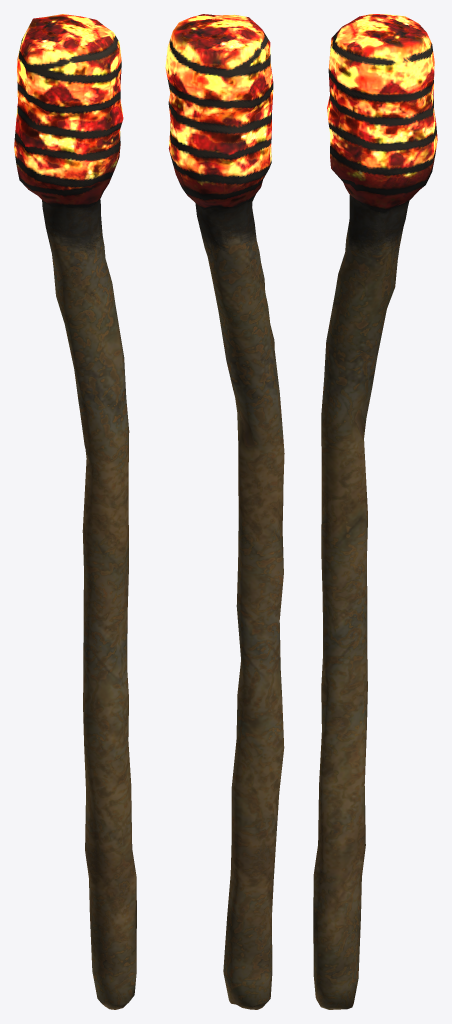
The picture shows the model from 3 angles, left to right: view 1: azimuth 90°, elevation 25°; view 2: azimuth 150°, elevation 25°; view 3: azimuth 270°, elevation 25°; orthographic projection. The views are drawn at different scales.
Parts seen in each view (by area): view 1: torchstick; view 2: torchstick; view 3: torchstick.
Part boxes in pixels (<box>): torchstick: <box>14,14,136,1009</box>; torchstick: <box>165,14,284,1009</box>; torchstick: <box>313,14,437,1009</box>.
Bounding box in the file's own units: 0.139 × 1.45 × 0.1664.
1 material, 1 textured.
